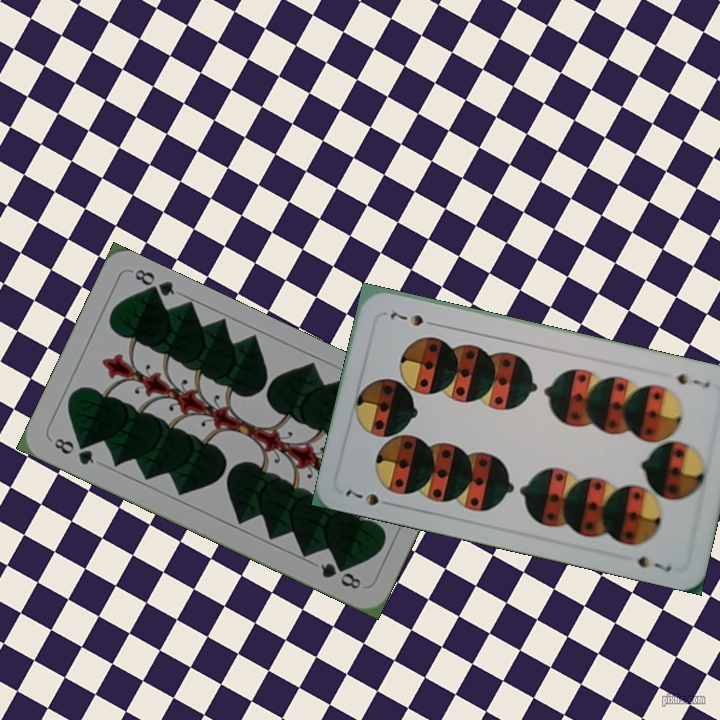G8: (50, 434, 97, 468)
S7: (341, 485, 397, 509), (673, 369, 713, 391)
